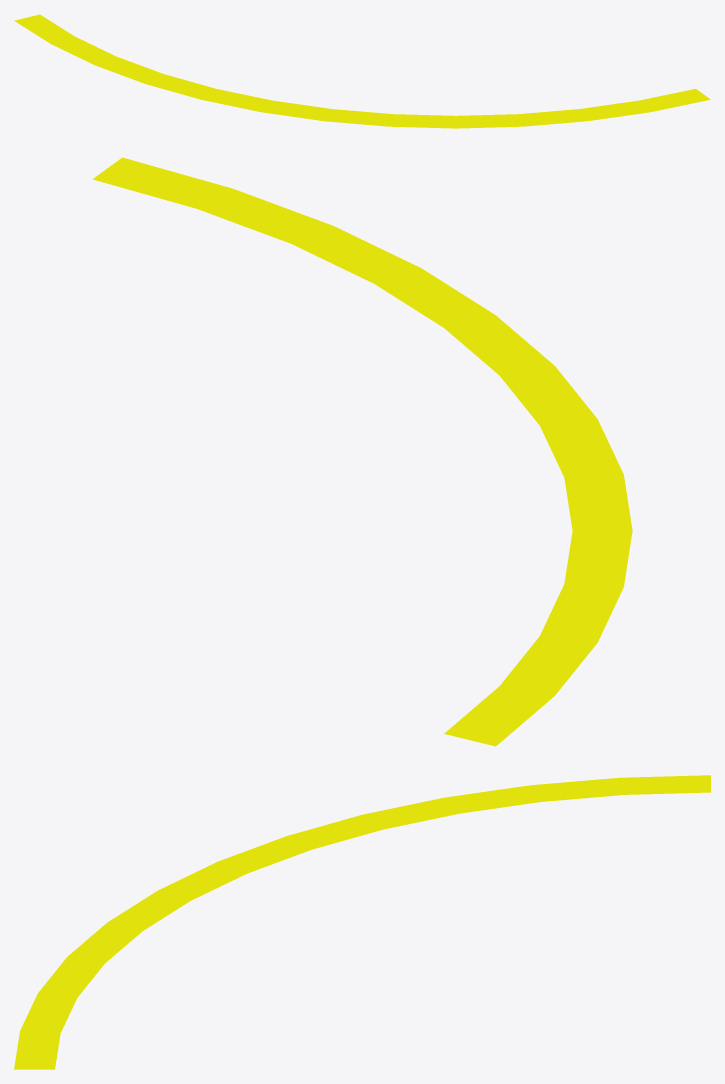
The model's file is sidewalk-corner-round-3m-stripe.glb.
3 views of the same model, one above another, from view 1: azimuth 30°, elevation 25°; view 2: azimuth 150°, elevation 25°; view 3: azimuth 270°, elevation 25° (orthographic). The views are drawn at different scales.
Visible parts, largest first — view 1: Sidewalk_Corner_Round_3m_Stripe; view 2: Sidewalk_Corner_Round_3m_Stripe; view 3: Sidewalk_Corner_Round_3m_Stripe.
Part boxes in pixels (<box>): Sidewalk_Corner_Round_3m_Stripe: <box>14,14,710,128</box>; Sidewalk_Corner_Round_3m_Stripe: <box>92,157,632,746</box>; Sidewalk_Corner_Round_3m_Stripe: <box>14,775,710,1069</box>.
Bounding box in the file's own units: 3.4 × 0 × 3.4.
Materials: 1 (1 with a texture image).
